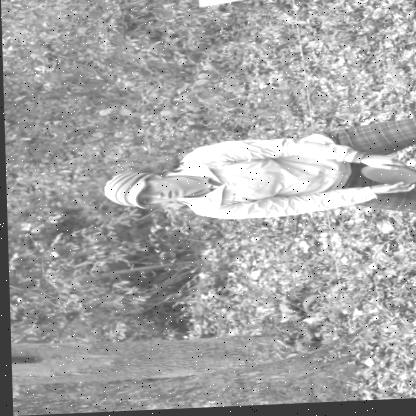streamer: (100, 107, 416, 232)
